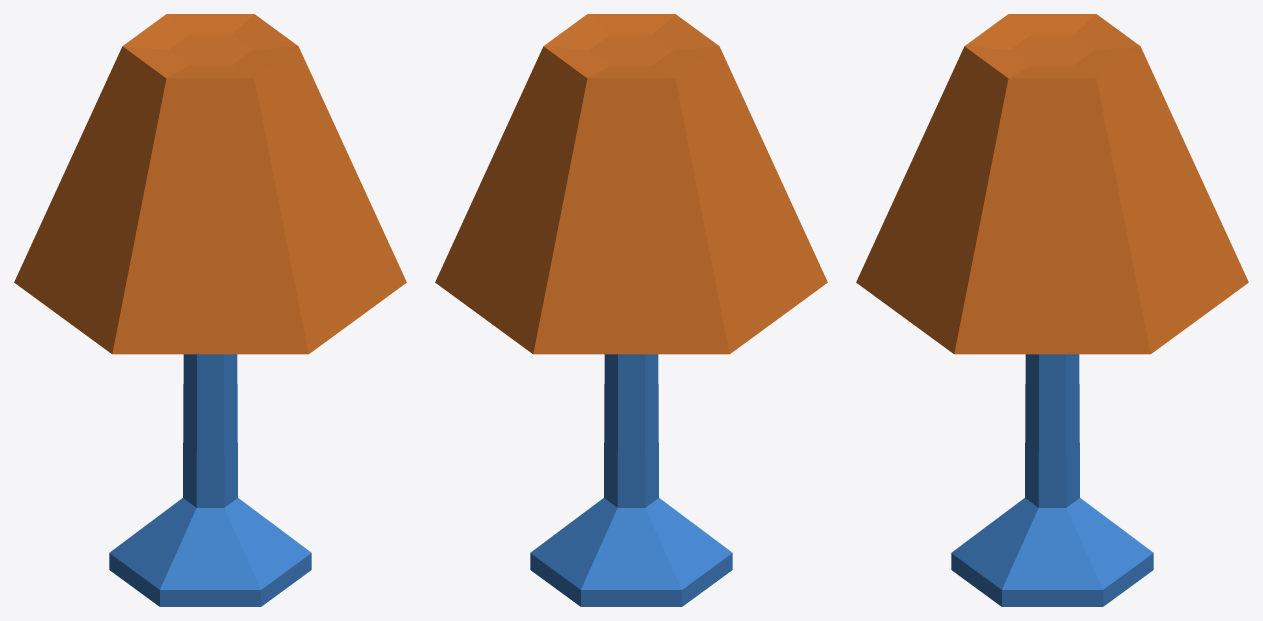
File: SmallLamp_Material.fbx
The picture shows the model from 3 angles, left to right: view 1: azimuth 30°, elevation 25°; view 2: azimuth 150°, elevation 25°; view 3: azimuth 270°, elevation 25°; orthographic projection.
Parts seen in each view (by area): view 1: SmallLamp.001; view 2: SmallLamp.001; view 3: SmallLamp.001.
Boxes of the visible parts, x1,y1,x2,y2 form: SmallLamp.001: (14, 14, 406, 606); SmallLamp.001: (435, 14, 827, 606); SmallLamp.001: (856, 14, 1248, 606).
Bounding box in the file's own units: 0.2692 × 0.4572 × 0.3109.
